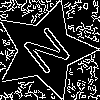N: (20, 25, 80, 84)
